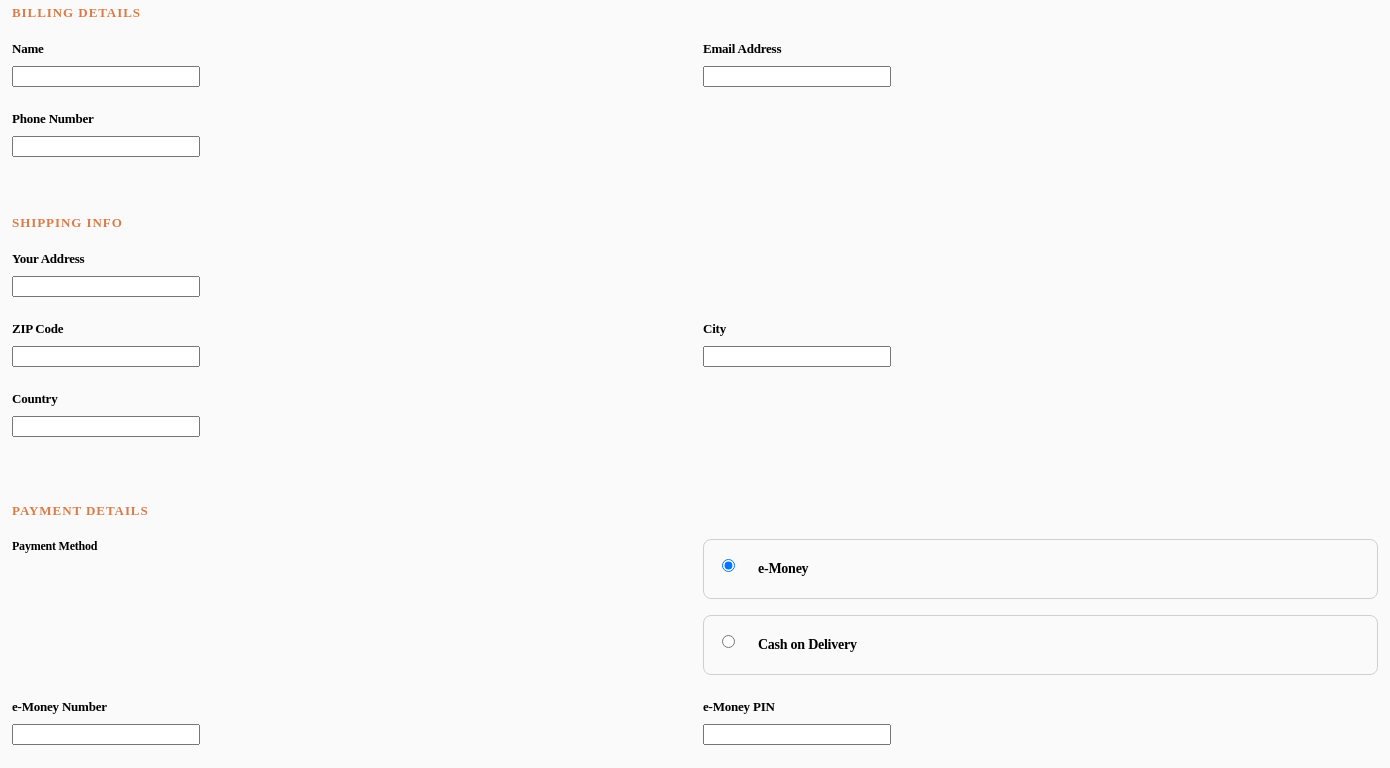
Scenario: ShippingInfo › Interactions › Form validation › displays a required error message in Your Address field when it was touched and then blurred leaving it with an empty value
Click the field labelled "Your Address".
click(106, 286)  # box [12,276,200,297]
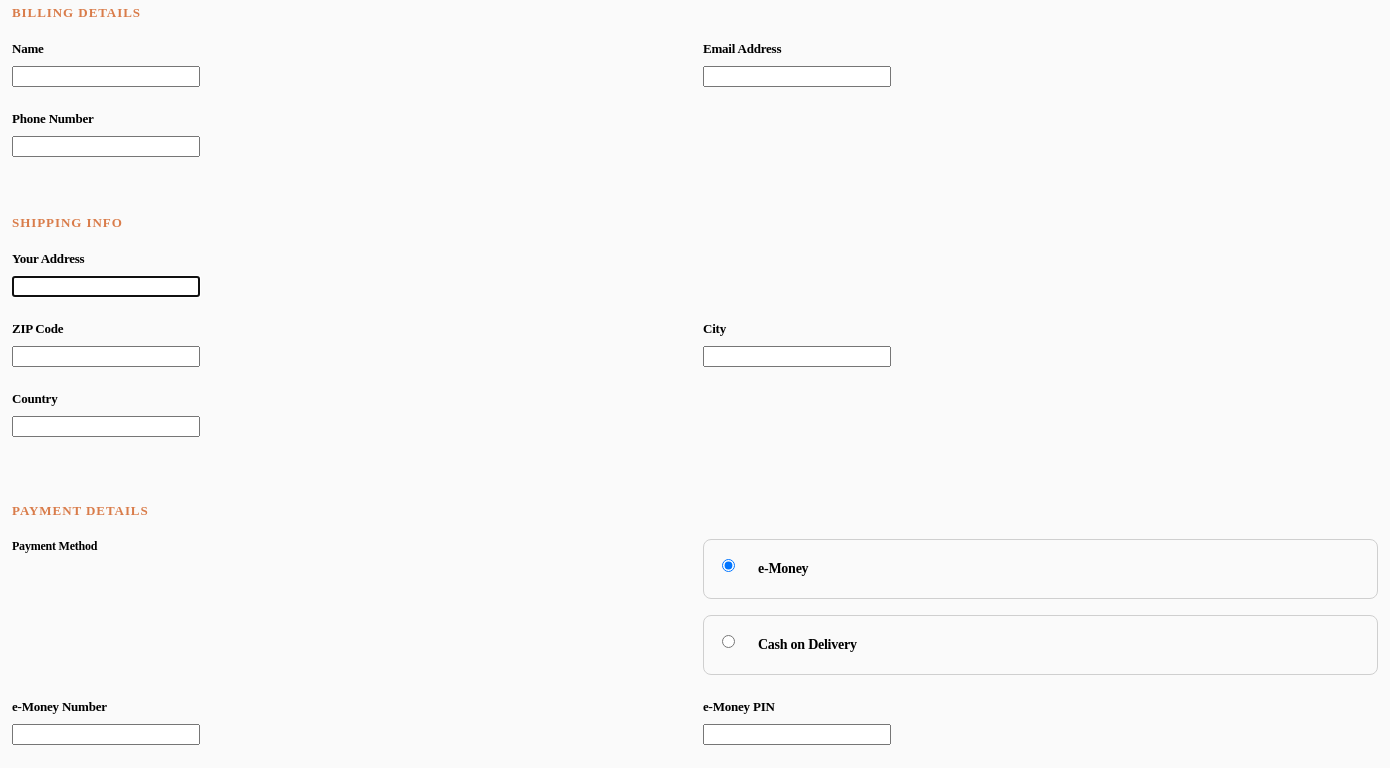
Click the element that starts with "Billing Details".
click(695, 384)  # box [12,0,1378,767]
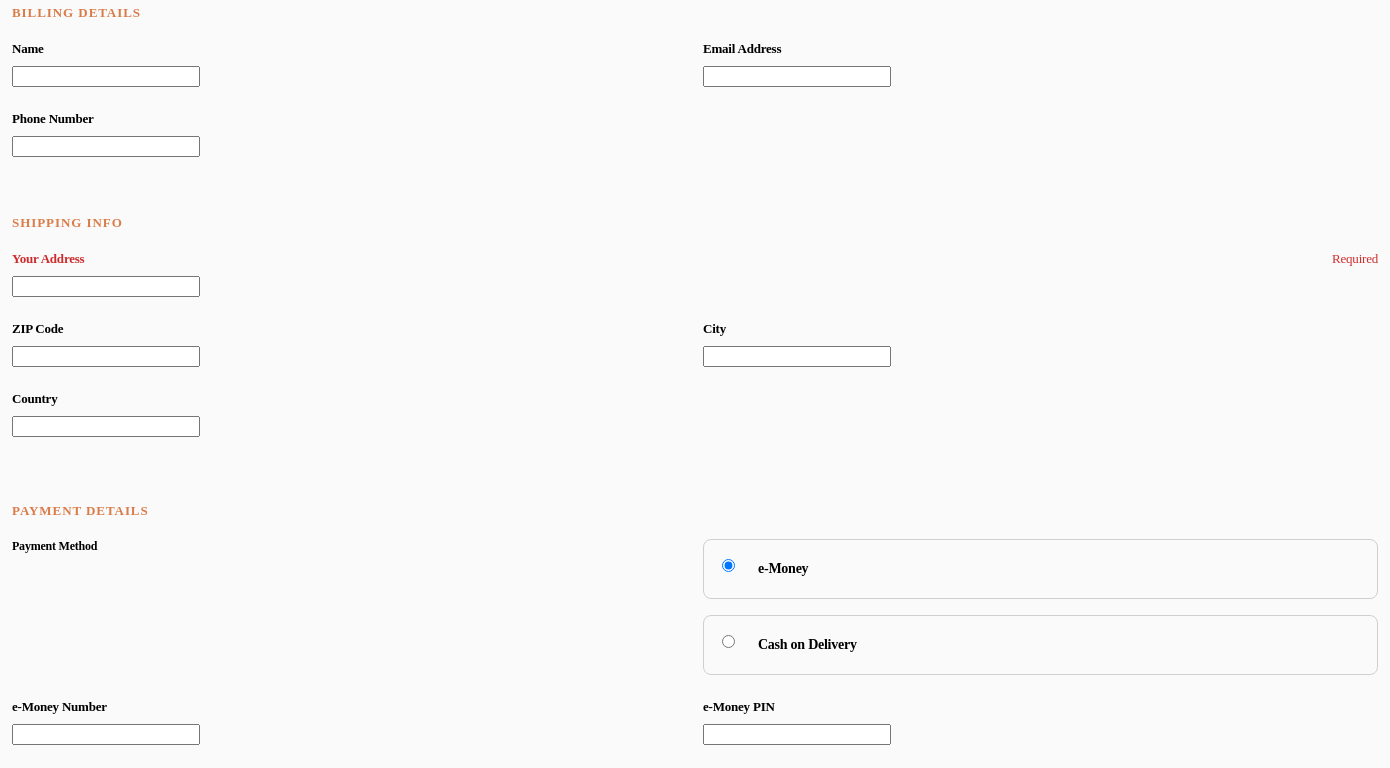
Check: the text "Required" is shown, box [1332,251,1378,267]
